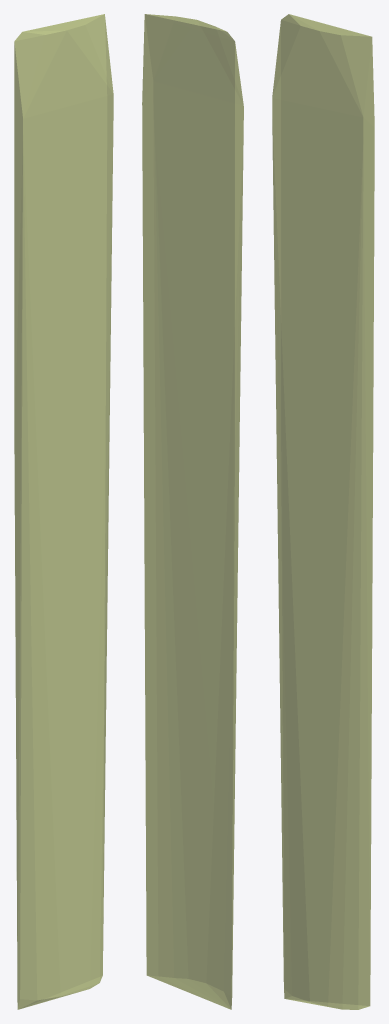
The picture shows the model from 3 angles, left to right: view 1: azimuth 30°, elevation 25°; view 2: azimuth 150°, elevation 25°; view 3: azimuth 330°, elevation 25°; orthographic projection.
Parts seen in each view (by area): view 1: Shape_IndexedFaceSet.002_Shape_IndexedFaceSet.4943; view 2: Shape_IndexedFaceSet.002_Shape_IndexedFaceSet.4943; view 3: Shape_IndexedFaceSet.002_Shape_IndexedFaceSet.4943.
Boxes of the visible parts, box(x1,y1,x2,y2) form: Shape_IndexedFaceSet.002_Shape_IndexedFaceSet.4943: box(14, 14, 113, 1009); Shape_IndexedFaceSet.002_Shape_IndexedFaceSet.4943: box(142, 14, 243, 1009); Shape_IndexedFaceSet.002_Shape_IndexedFaceSet.4943: box(272, 14, 374, 1009).
Bounding box in the file's own units: 0.1561 × 1.57 × 0.0261.
